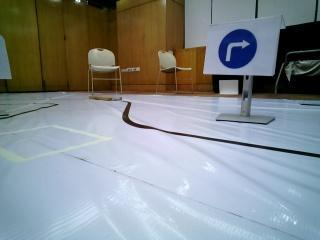right: (211, 26, 261, 67)
